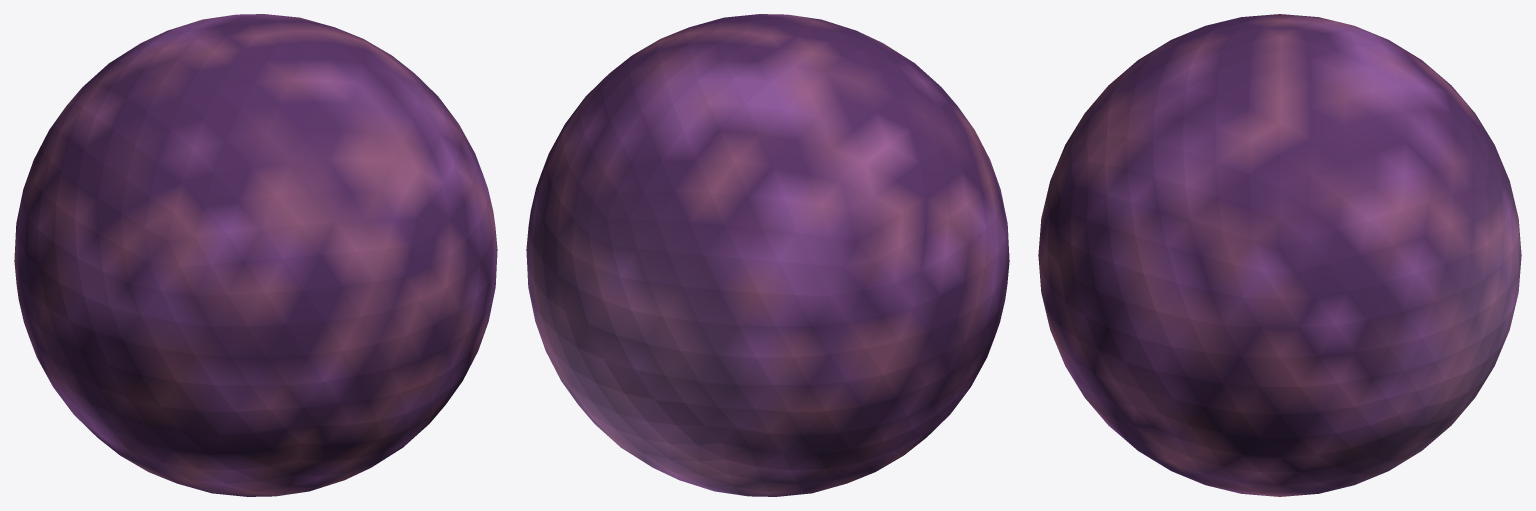
The model's file is sky_reach.glb.
The picture shows the model from 3 angles, left to right: view 1: azimuth 30°, elevation 25°; view 2: azimuth 150°, elevation 25°; view 3: azimuth 270°, elevation 25°; orthographic projection.
Parts seen in each view (by area): view 1: sky_reach; view 2: sky_reach; view 3: sky_reach.
Boxes of the visible parts, x1,y1,x2,y2 form: sky_reach: (14,14,497,496); sky_reach: (526,14,1009,496); sky_reach: (1038,14,1521,496).
Size of the model in its own units: 2 by 2 by 2.
